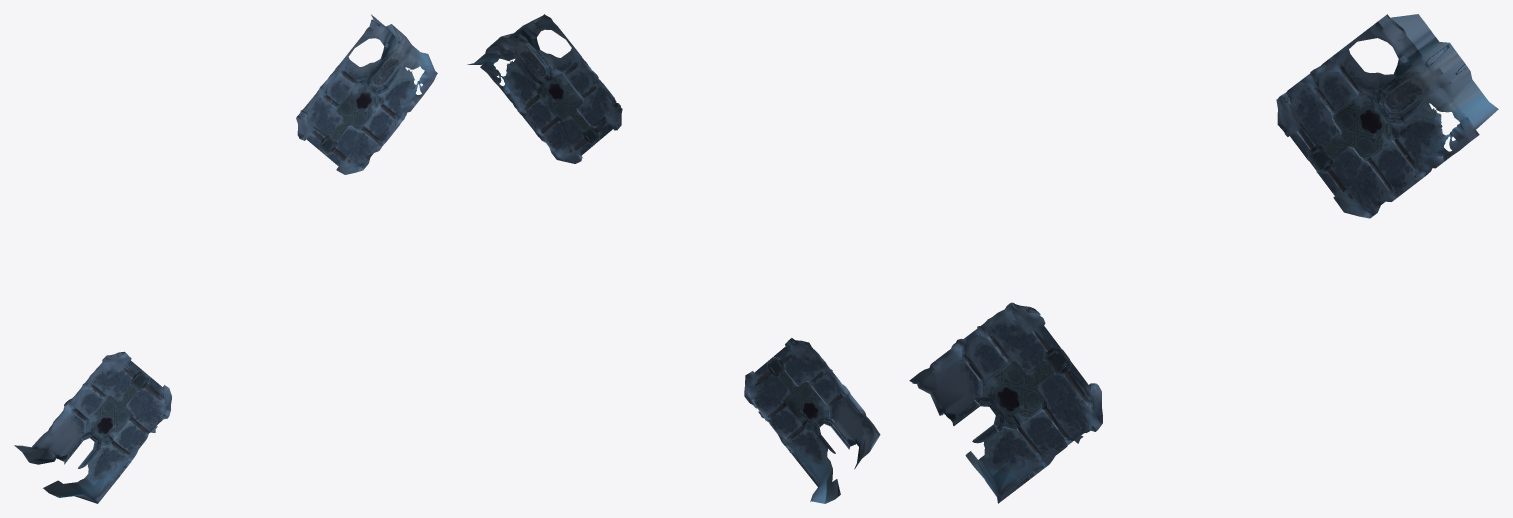
Rendered from LM_polySurface172386_shader.FBX.
3 renders of one model, left to right at view 1: azimuth 30°, elevation 25°; view 2: azimuth 150°, elevation 25°; view 3: azimuth 330°, elevation 25°, orthographic. The views are drawn at different scales.
Visible parts, largest first — view 1: MeshData036, MeshData008, MeshData006, MeshData029, MeshData010, MeshData027, MeshData030, MeshData013, MeshData014, MeshData020, MeshData039, MeshData037 (+15 smaller); view 2: MeshData036, MeshData008, MeshData006, MeshData029, MeshData030, MeshData013, MeshData010, MeshData027, MeshData014, MeshData039, MeshData037, MeshData020 (+14 smaller); view 3: MeshData039, MeshData036, MeshData008, MeshData006, MeshData029, MeshData043, MeshData010, MeshData030, MeshData027, MeshData013, MeshData014, MeshData037 (+17 smaller).
Boxes of the visible parts, left/top/right/bottom form: MeshData036: left=352, top=77, right=400, bottom=124; MeshData008: left=99, top=430, right=145, bottom=493; MeshData006: left=49, top=416, right=84, bottom=461; MeshData029: left=305, top=92, right=338, bottom=134; MeshData010: left=102, top=408, right=141, bottom=447; MeshData027: left=329, top=115, right=368, bottom=153; MeshData030: left=332, top=80, right=366, bottom=120; MeshData013: left=76, top=386, right=110, bottom=424; MeshData014: left=107, top=372, right=138, bottom=412; MeshData020: left=132, top=374, right=166, bottom=422; MeshData039: left=383, top=32, right=419, bottom=86; MeshData037: left=386, top=69, right=420, bottom=110; MeshData036: left=521, top=69, right=567, bottom=114; MeshData008: left=771, top=414, right=816, bottom=476; MeshData006: left=831, top=400, right=864, bottom=446; MeshData029: left=581, top=83, right=614, bottom=124; MeshData030: left=553, top=70, right=587, bottom=110; MeshData013: left=804, top=372, right=838, bottom=409; MeshData010: left=775, top=393, right=813, bottom=431; MeshData027: left=552, top=106, right=589, bottom=143; MeshData014: left=777, top=358, right=808, bottom=397; MeshData039: left=485, top=38, right=535, bottom=77; MeshData037: left=499, top=61, right=533, bottom=100; MeshData020: left=749, top=360, right=784, bottom=407; MeshData039: left=1400, top=60, right=1471, bottom=119; MeshData036: left=1354, top=96, right=1420, bottom=155; MeshData008: left=1000, top=426, right=1064, bottom=490; MeshData006: left=932, top=364, right=979, bottom=423; MeshData029: left=1287, top=81, right=1334, bottom=145; MeshData043: left=1370, top=14, right=1432, bottom=67; MeshData010: left=1004, top=387, right=1058, bottom=442; MeshData030: left=1325, top=79, right=1374, bottom=138; MeshData027: left=1322, top=134, right=1376, bottom=186; MeshData013: left=969, top=334, right=1016, bottom=391; MeshData014: left=1010, top=334, right=1055, bottom=398; MeshData037: left=1402, top=103, right=1452, bottom=161.
Bounding box in the file's own units: 14426 × 13969 × 977.
